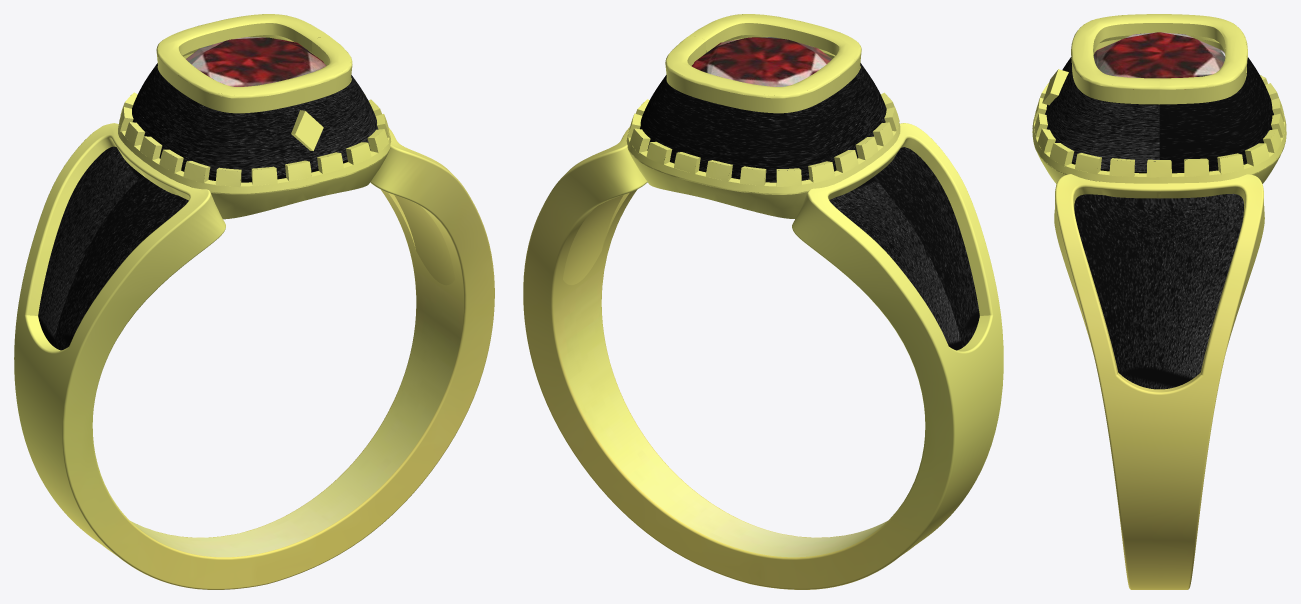
File: ring40.glb
The picture shows the model from 3 angles, left to right: view 1: azimuth 30°, elevation 25°; view 2: azimuth 150°, elevation 25°; view 3: azimuth 270°, elevation 25°; orthographic projection.
Parts seen in each view (by area): view 1: body, black, core; view 2: body, black, core; view 3: body, black, core.
Part boxes in pixels (<box>): body: <box>14,14,494,589</box>; black: <box>38,63,378,350</box>; core: <box>186,37,326,86</box>; body: <box>523,14,1003,589</box>; black: <box>640,63,979,350</box>; core: <box>692,37,831,86</box>; body: <box>1032,14,1286,589</box>; black: <box>1045,57,1273,389</box>; core: <box>1093,32,1225,89</box>.
Bounding box in the file's own units: 21.21 × 24.38 × 10.83.
Materials: 4 (4 with a texture image).
